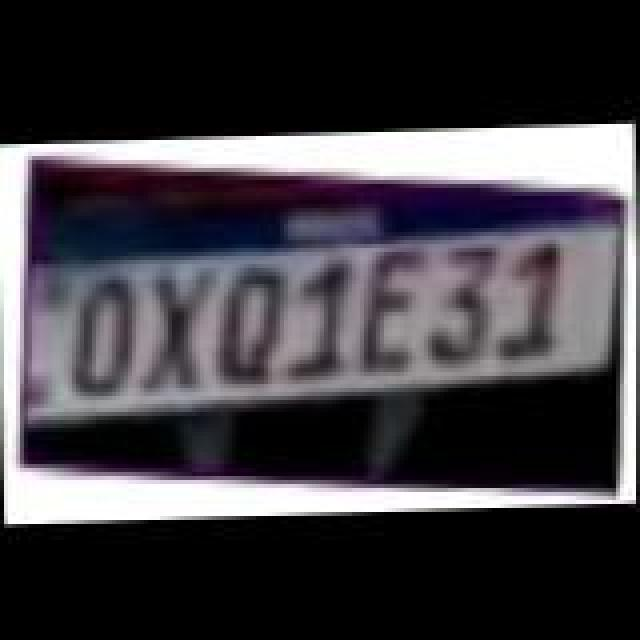1: (484, 228, 584, 356), (278, 252, 366, 380)
3: (414, 232, 518, 364)
E: (350, 242, 446, 378)
O: (60, 272, 152, 400)
Q: (208, 260, 300, 384)
X: (130, 258, 226, 390)
